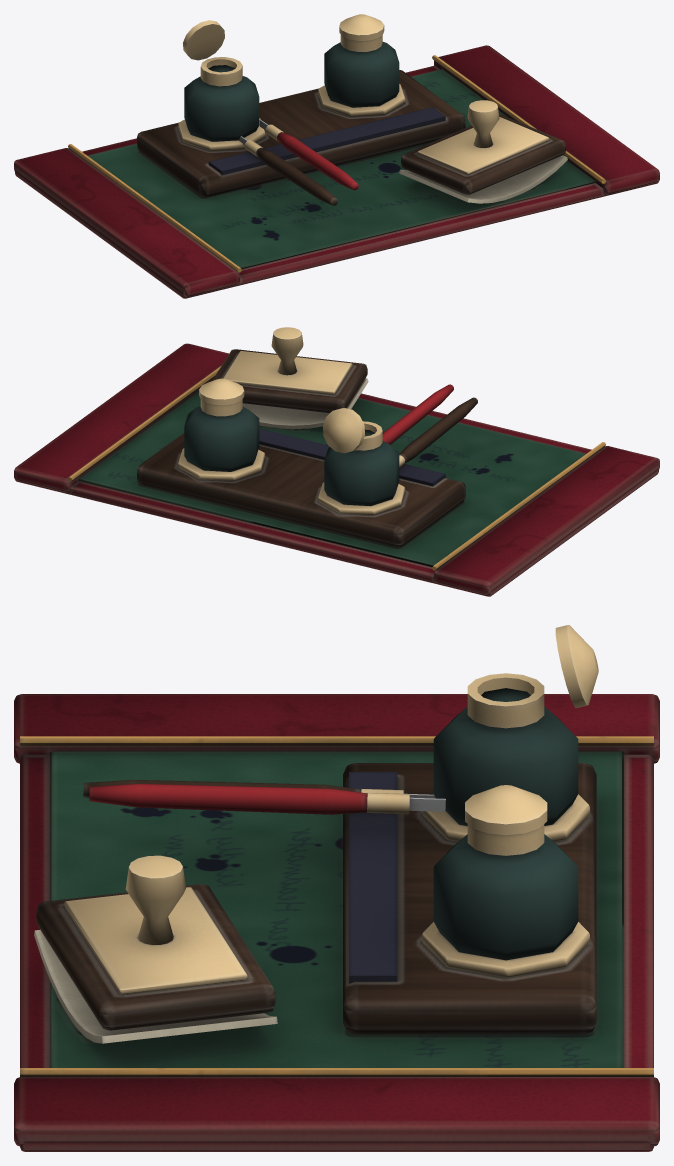
Rendered from InkwellSet.fbx.
3 views of the same model, one above another, from view 1: azimuth 30°, elevation 25°; view 2: azimuth 150°, elevation 25°; view 3: azimuth 270°, elevation 25° (orthographic). The views are drawn at different scales.
Visible parts, largest first — view 1: InkwellSet; view 2: InkwellSet; view 3: InkwellSet.
Part boxes in pixels (x1,y1,x2,y2): InkwellSet: (14,14,659,298); InkwellSet: (14,327,659,596); InkwellSet: (14,625,659,1151).
Size of the model in its own units: 170 by 44.61 by 107.
